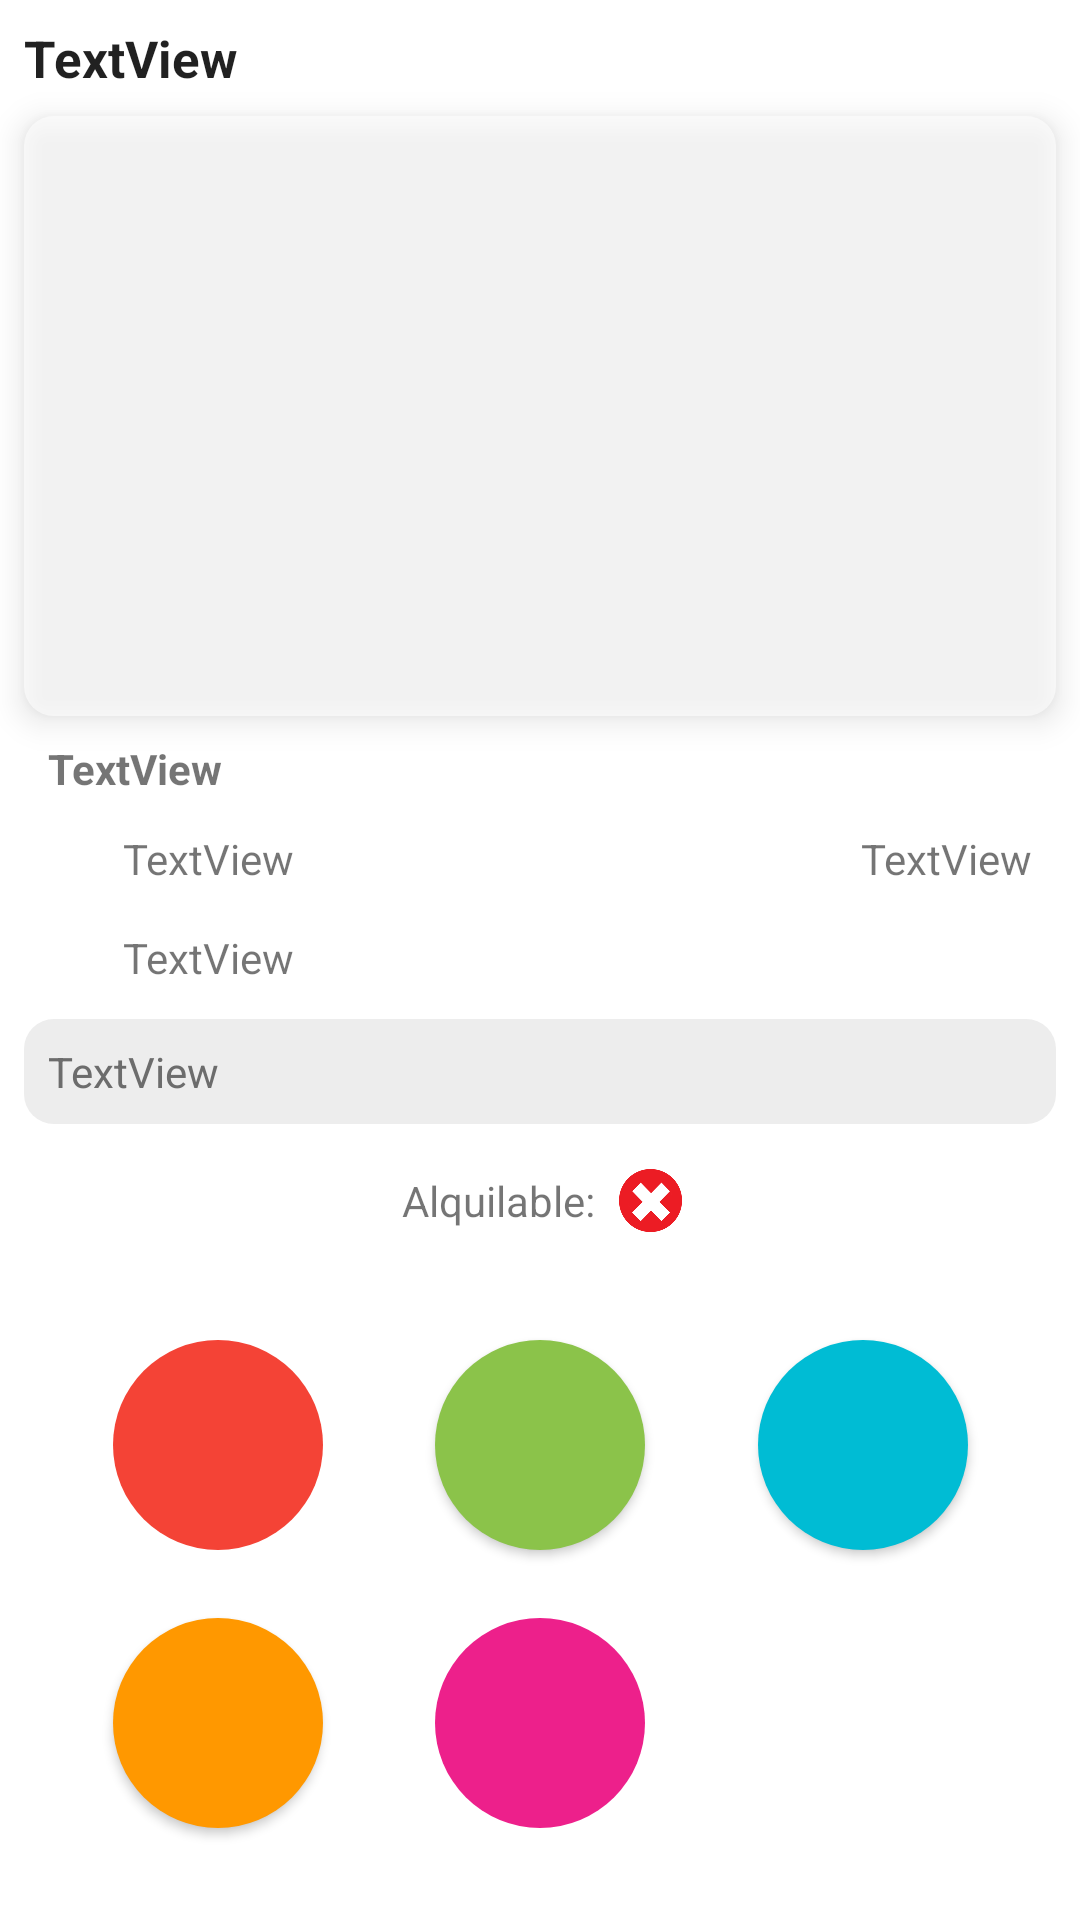

Point at icon controls on the screen. Image size 1080x1920, points as point (x, y).
nregistrado: point (650, 1200)
